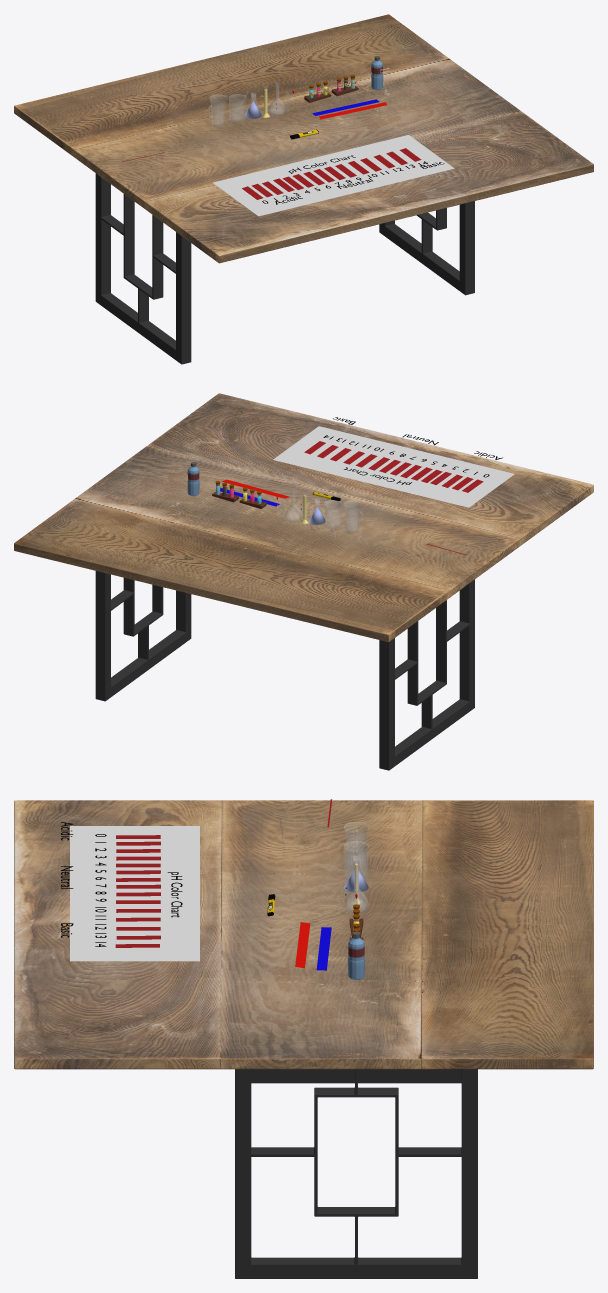
The model's file is chem_models.glb.
3 renders of one model, top to bottom at view 1: azimuth 30°, elevation 25°; view 2: azimuth 150°, elevation 25°; view 3: azimuth 270°, elevation 25°, orthographic. The views are drawn at different scales.
Parts seen in each view (by area): view 1: Industrial Table_0, Plane.002, Gelas Ukur_8, Beaker_0; view 2: Industrial Table_0, Plane.002, Gelas Ukur_8; view 3: Industrial Table_0, Plane.002, Gelas Ukur_8, Beaker_0, WaterBottle_3.
Part boxes in pixels (box(x1,y1,x2,y2)): Industrial Table_0: box(14, 14, 593, 364); Plane.002: box(213, 135, 454, 216); Gelas Ukur_8: box(208, 94, 227, 126); Beaker_0: box(229, 94, 246, 123); Industrial Table_0: box(14, 393, 593, 770); Plane.002: box(273, 426, 514, 507); Gelas Ukur_8: box(343, 500, 362, 533); Industrial Table_0: box(14, 800, 593, 1278); Plane.002: box(70, 826, 199, 961); Gelas Ukur_8: box(344, 822, 368, 866); Beaker_0: box(344, 841, 368, 880); WaterBottle_3: box(348, 931, 364, 979).
Size of the model in its own units: 17.94 by 9.96 by 17.01.
35 materials, 5 textured.
